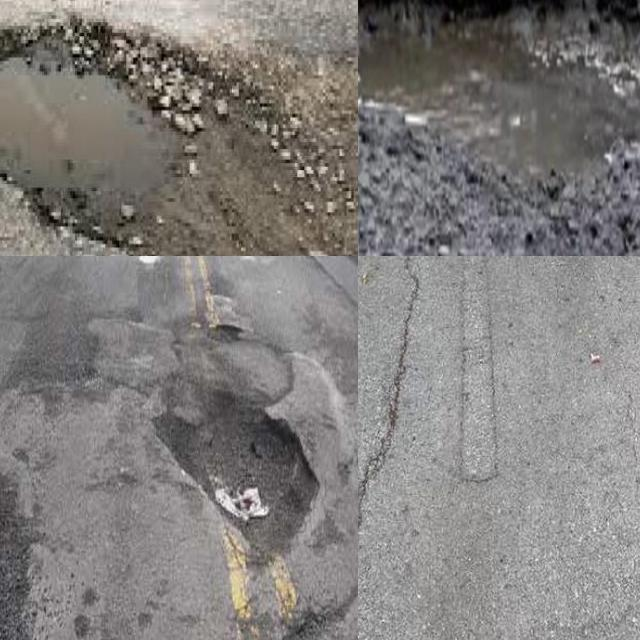Lubang: (0, 33, 309, 256), (358, 0, 640, 187), (153, 385, 323, 563)
Memanjang: (358, 256, 439, 611)
